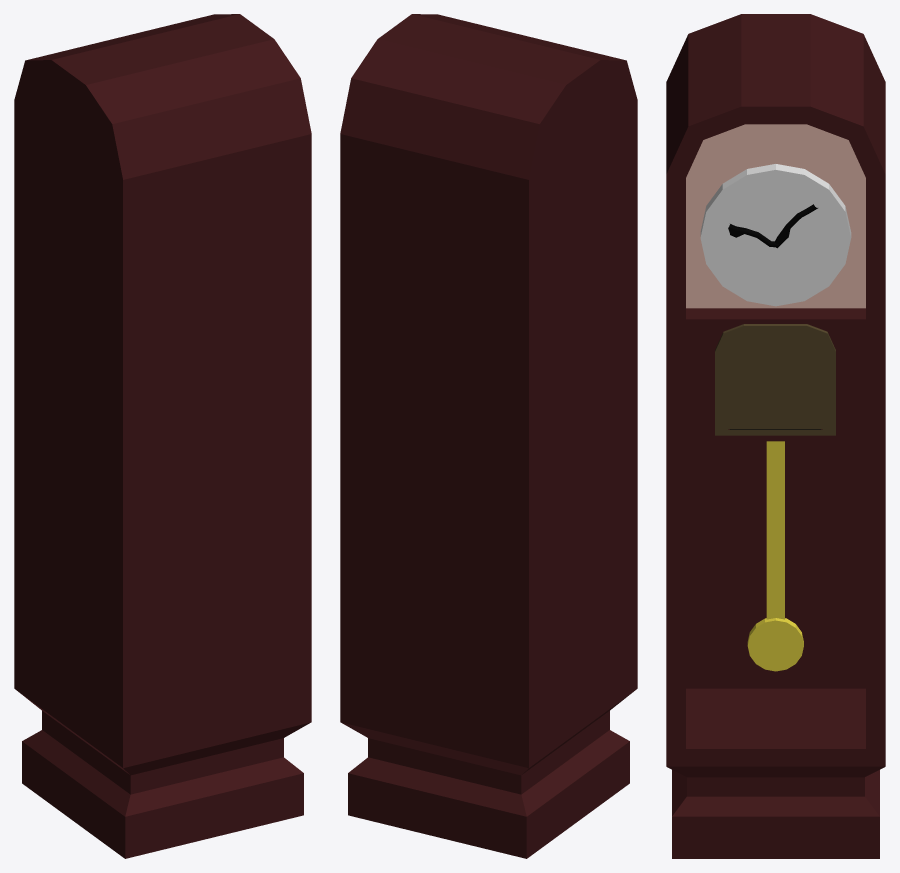
Rendered from clock2.fbx.
The picture shows the model from 3 angles, left to right: view 1: azimuth 30°, elevation 25°; view 2: azimuth 150°, elevation 25°; view 3: azimuth 270°, elevation 25°; orthographic projection.
Parts seen in each view (by area): view 1: Base; view 2: Base; view 3: Base, Bard, Huriko.
Boxes of the visible parts, <box> form: Base: <box>14,14,311,858</box>; Base: <box>340,14,637,858</box>; Base: <box>666,14,885,858</box>; Bard: <box>715,324,835,435</box>; Huriko: <box>747,441,803,671</box>.
Bounding box in the file's own units: 297 × 1105 × 291.
